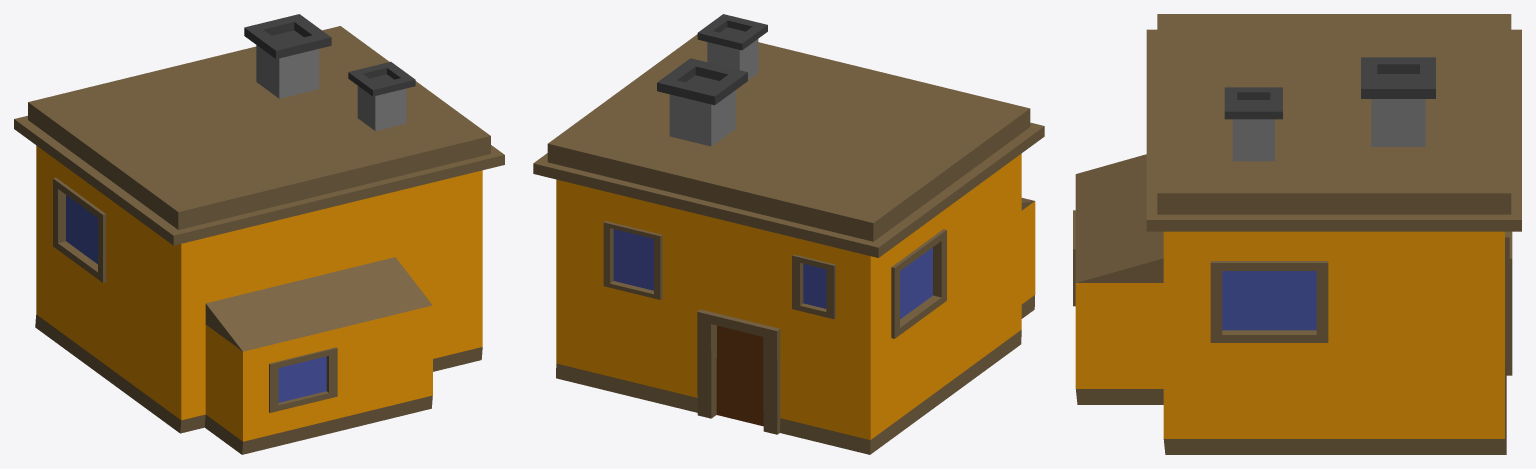
File: Home-1.fbx
The picture shows the model from 3 angles, left to right: view 1: azimuth 30°, elevation 25°; view 2: azimuth 150°, elevation 25°; view 3: azimuth 270°, elevation 25°; orthographic projection. The views are drawn at different scales.
Visible parts, largest first — view 1: Home-1; view 2: Home-1; view 3: Home-1.
Part boxes in pixels (x1,y1,x2,y2): Home-1: (14, 14, 504, 454); Home-1: (533, 14, 1044, 454); Home-1: (1073, 14, 1521, 454).
Size of the model in its own units: 7.79 by 6.25 by 7.77.
